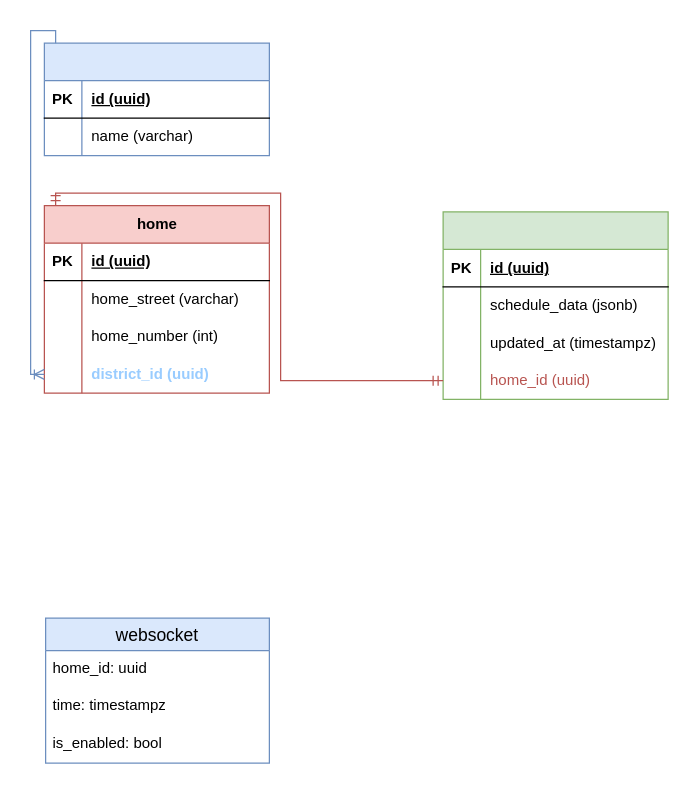
Image size: 690x789. Some labels were removed from this diagram. Each missing label, with the box of its shape:
district: (43, 42, 269, 156)
home_schedule: (442, 211, 668, 399)
